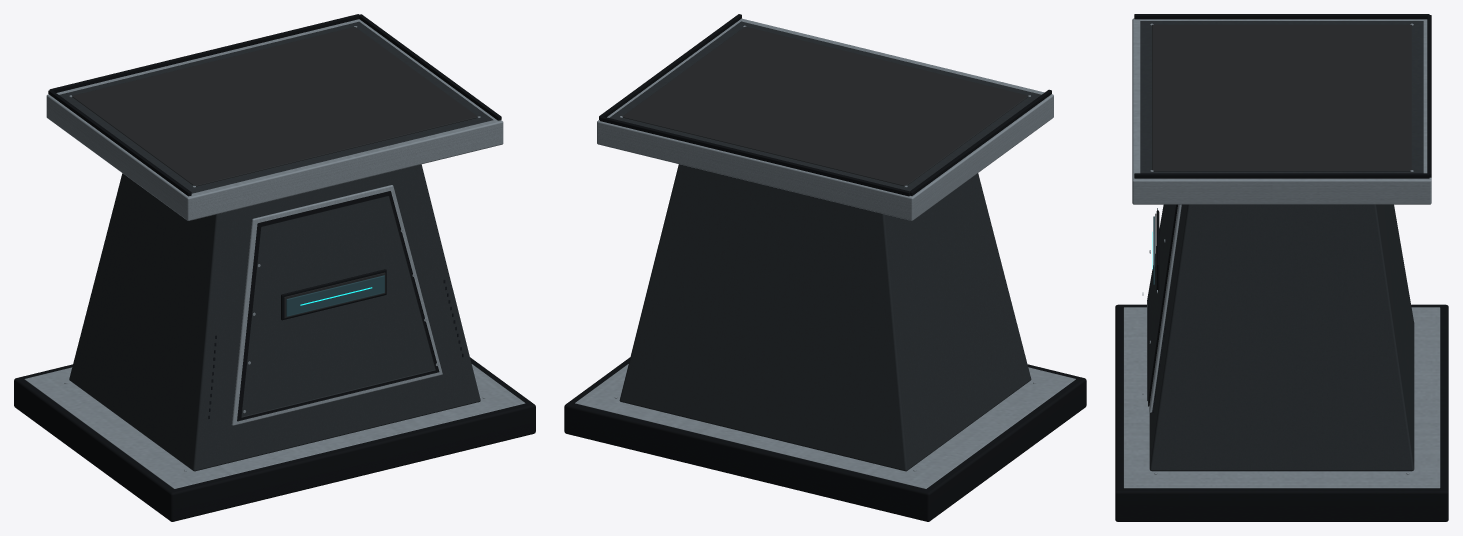
File: pedestal_precision.glb
3 views of the same model, side by side, from view 1: azimuth 30°, elevation 25°; view 2: azimuth 150°, elevation 25°; view 3: azimuth 270°, elevation 25° (orthographic). The views are drawn at different scales.
Visible parts, largest first — view 1: P03 visibly tapered structural core, P07 replaceable 3mm nonslip pad, P03 dark powder coat inset, P01 foot plate 1040x780x80, P07 900x700x64 top tray, P01 steel toe rim, P07 inset satin top plate, P03 600 to 400 mm trapezoid service door, P03 door graphite gasket, P07 rear low guard, P05 separate smoked glass 4mm, P07 lateral low guard (+2 smaller); view 2: P03 visibly tapered structural core, P07 replaceable 3mm nonslip pad, P01 foot plate 1040x780x80, P07 900x700x64 top tray, P01 steel toe rim, P07 inset satin top plate, P07 rear low guard, P07 lateral low guard, P07 lateral low guard.001; view 3: P03 visibly tapered structural core, P07 replaceable 3mm nonslip pad, P01 foot plate 1040x780x80, P01 steel toe rim, P07 900x700x64 top tray, P07 inset satin top plate, P03 dark powder coat inset, P07 lateral low guard.001, P07 lateral low guard, P03 600 to 400 mm trapezoid service door, P07 rear low guard, P03 door graphite gasket.
Boxes of the visible parts, box(x1,y1,x2,y2) form: P03 visibly tapered structural core: box(69, 164, 480, 471); P07 replaceable 3mm nonslip pad: box(72, 27, 477, 186); P03 dark powder coat inset: box(241, 195, 435, 417); P01 foot plate 1040x780x80: box(14, 357, 535, 521); P07 900x700x64 top tray: box(46, 19, 503, 220); P01 steel toe rim: box(24, 364, 525, 488); P07 inset satin top plate: box(59, 21, 493, 193); P03 600 to 400 mm trapezoid service door: box(231, 185, 442, 425); P03 door graphite gasket: box(237, 191, 439, 421); P07 rear low guard: box(49, 14, 359, 92); P05 separate smoked glass 4mm: box(286, 275, 384, 316); P07 lateral low guard: box(48, 90, 191, 196); P03 visibly tapered structural core: box(619, 164, 1031, 471); P07 replaceable 3mm nonslip pad: box(622, 26, 1028, 186); P01 foot plate 1040x780x80: box(564, 357, 1086, 521); P07 900x700x64 top tray: box(597, 18, 1053, 220); P01 steel toe rim: box(575, 364, 1075, 488); P07 inset satin top plate: box(609, 21, 1041, 191); P07 rear low guard: box(600, 116, 909, 196); P07 lateral low guard: box(909, 89, 1051, 195); P07 lateral low guard.001: box(599, 14, 741, 119); P03 visibly tapered structural core: box(1149, 204, 1414, 471); P07 replaceable 3mm nonslip pad: box(1152, 24, 1411, 171); P01 foot plate 1040x780x80: box(1115, 304, 1448, 521); P01 steel toe rim: box(1123, 307, 1440, 488); P07 900x700x64 top tray: box(1132, 18, 1431, 204); P07 inset satin top plate: box(1140, 21, 1423, 173); P03 dark powder coat inset: box(1147, 204, 1175, 400); P07 lateral low guard.001: box(1134, 173, 1429, 178); P07 lateral low guard: box(1134, 14, 1429, 19); P03 600 to 400 mm trapezoid service door: box(1149, 204, 1181, 412); P07 rear low guard: box(1427, 15, 1431, 177); P03 door graphite gasket: box(1148, 204, 1177, 406).
Size of the model in its own units: 1.04 by 0.863 by 0.78.
Materials: 7 (3 with a texture image).
